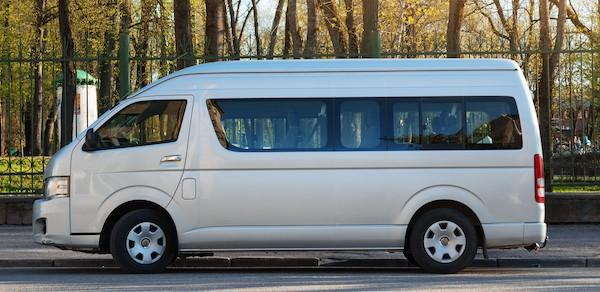van: (29, 58, 549, 274)
